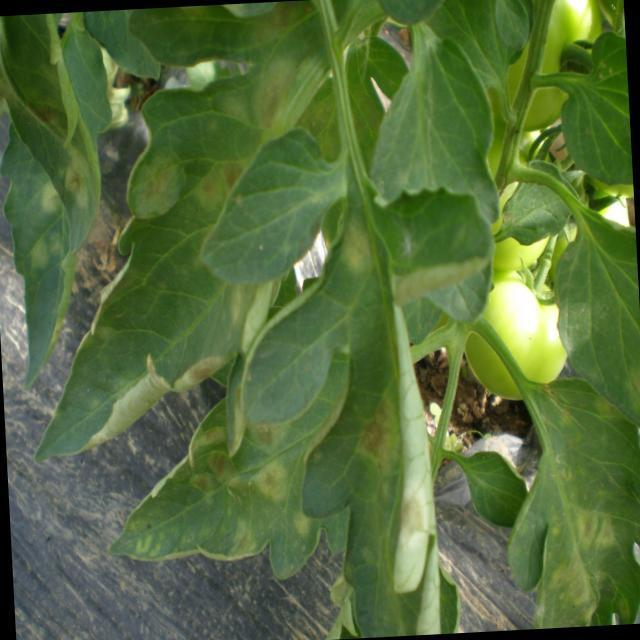Mosaic Virus: (172, 416, 306, 532), (544, 471, 634, 628)
